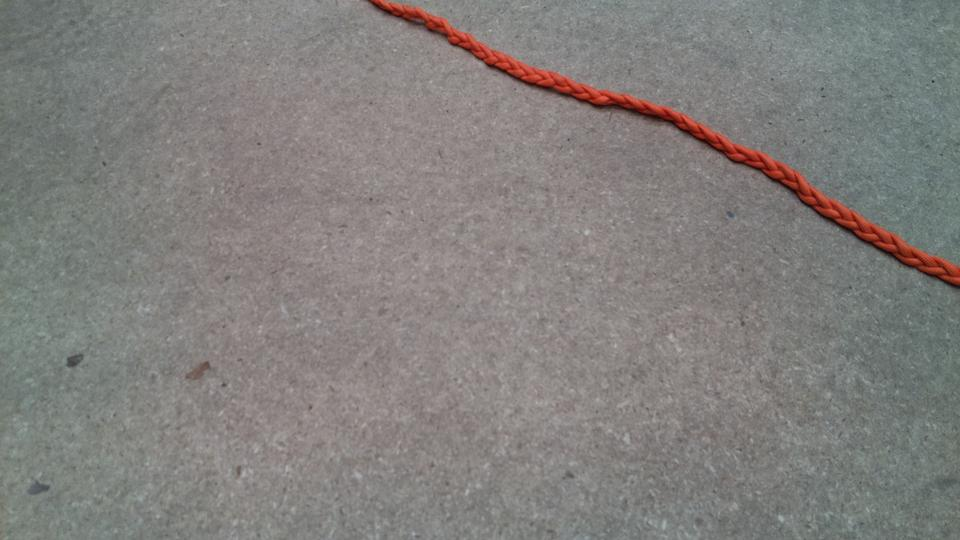rope: (378, 1, 960, 280)
